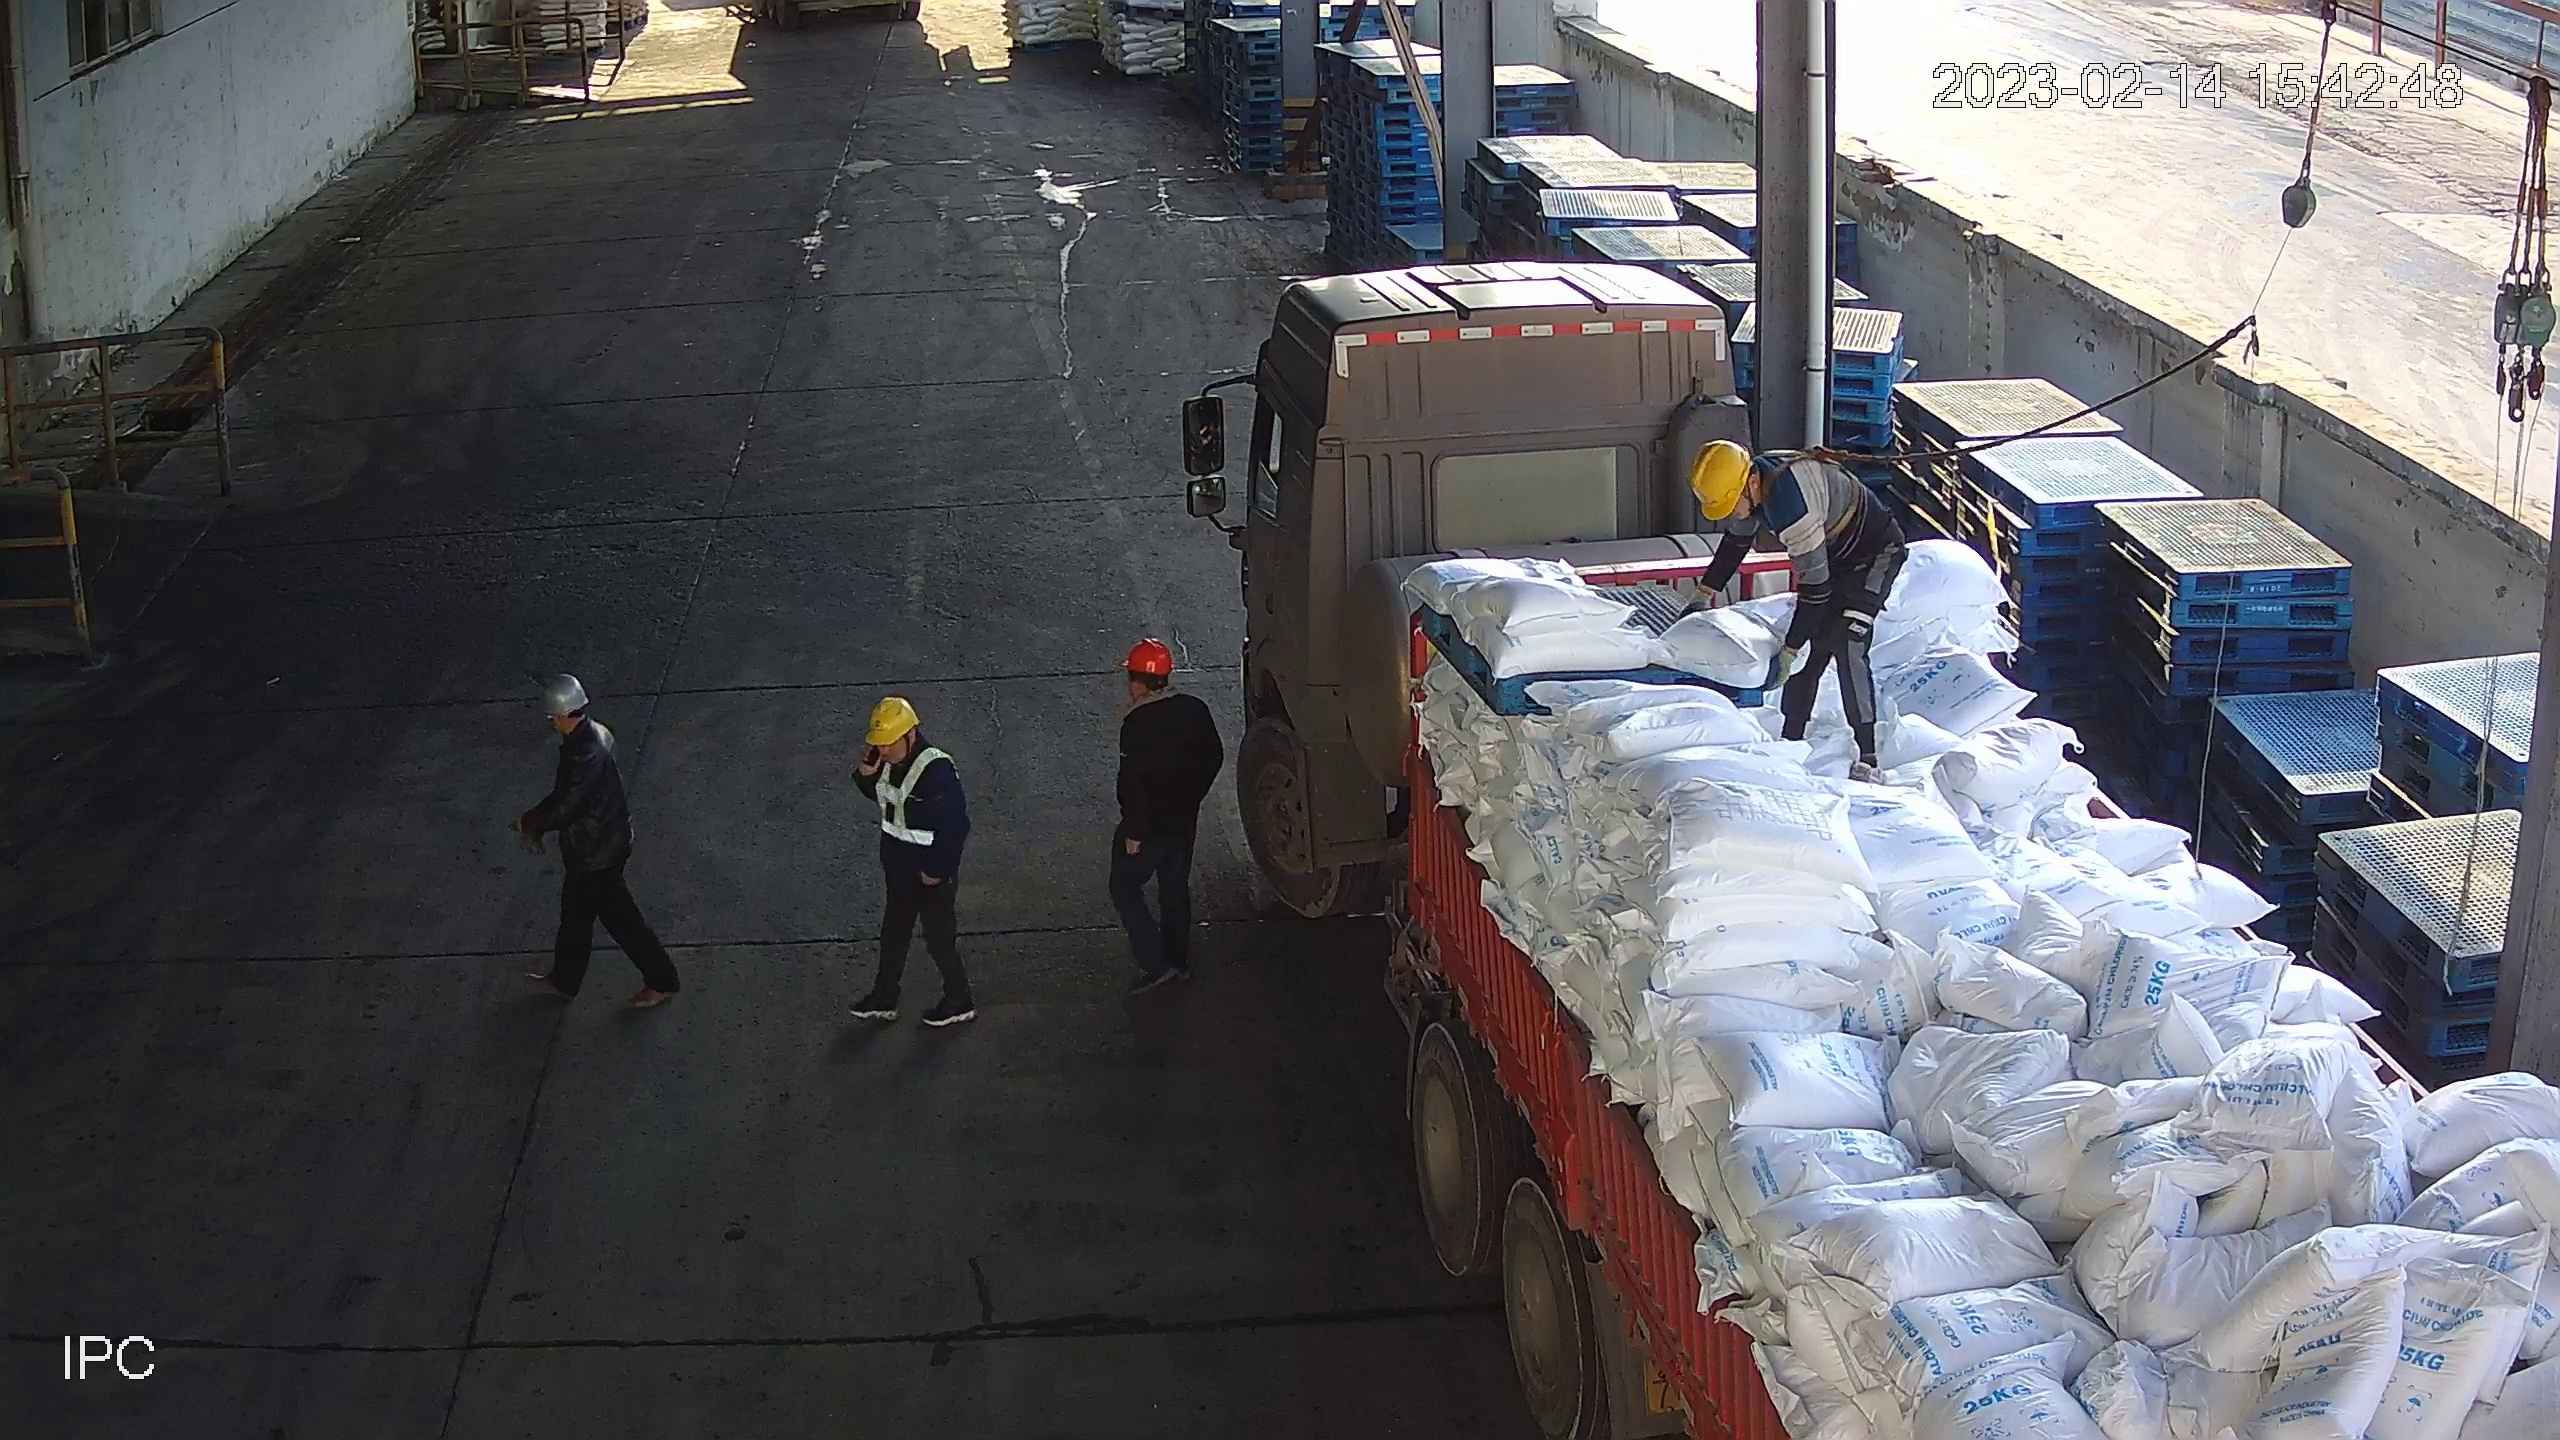belt: (1769, 443, 1851, 544)
head: (1688, 434, 1816, 543), (865, 695, 958, 792), (530, 674, 618, 776), (1120, 641, 1213, 736)
helmet: (1688, 437, 1753, 520), (863, 692, 916, 746), (535, 674, 588, 718), (1127, 636, 1176, 681)
people: (1679, 436, 1918, 779), (511, 671, 683, 1027), (848, 692, 986, 1034), (1109, 637, 1232, 993)
truck: (1163, 260, 2560, 1440)
